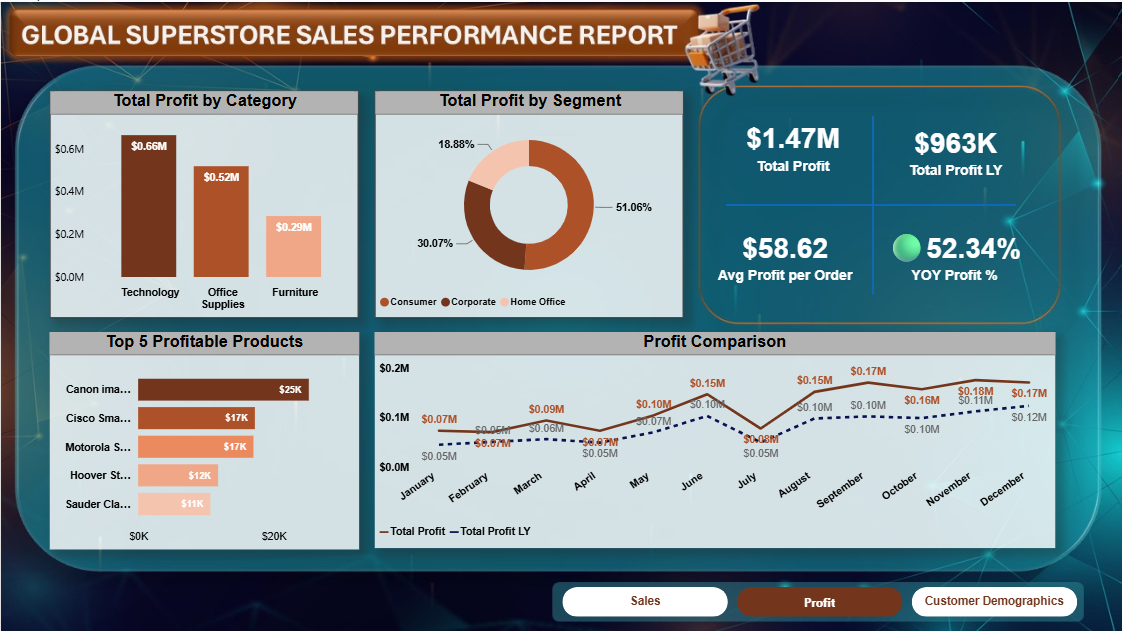

The dashboard page shown, as its layout file describes it:
{"tool":"powerbi","page":{"name":"Profit ","canvas":[1280,720],"ordinal":1},"visuals":[{"type":"columnChart","title":"Total Profit by Category","fields":{"Category":["globalsuperstore.Category"],"Y":["Reftbl.Total Profit"]},"box":[55.5,101.3,352.3,259.4],"z":0},{"type":"donutChart","title":"Total Profit by Segment","fields":{"Series":["globalsuperstore.Segment"],"Y":["Reftbl.Total Profit"]},"box":[425.9,101.3,352.3,259.4],"z":1000},{"type":"barChart","title":"Top 5 Profitable Products ","fields":{"Category":["globalsuperstore.Product Name"],"Y":["Reftbl.Total Profit"]},"box":[54.9,376,352.7,248.4],"z":2000},{"type":"lineChart","title":"Profit Comparison","fields":{"Category":["date_tbl1.Date.Variation.Date Hierarchy.Month"],"Y":["Reftbl.Total Profit","Reftbl.Total_profit_ly"]},"box":[425.9,376.4,775.7,246.1],"z":3000},{"type":"shape","box":[842.1,129.1,304,203.9],"z":4000},{"type":"shape","box":[826.4,80.8,330.6,300.4],"z":5000},{"type":"card","fields":{"Values":["Reftbl.Total Profit"]},"box":[801.4,102.9,204.5,122.1],"z":6000},{"type":"card","fields":{"Values":["Reftbl.yoy_profit%"]},"box":[993.5,223.7,188,130.4],"z":7000},{"type":"card","fields":{"Values":["Reftbl.Total_profit_ly"]},"box":[1010,107,156.4,123.5],"z":8000},{"type":"card","fields":{"Values":["Reftbl.avg_profit_per_order"]},"box":[801.4,223.7,186.6,130.4],"z":9000},{"type":"pageNavigator","box":[639.5,666.9,587.3,34.3],"z":10000}]}

Visuals, with their boxes in screenshot pixels (x1, y1, x2, y2), scaled from the page's 1280x720 canvas onto the 1122x631 screenshot:
"Total Profit by Category" columnChart: 49,89,357,316
"Total Profit by Segment" donutChart: 373,89,682,316
"Top 5 Profitable Products " barChart: 48,330,357,547
"Profit Comparison" lineChart: 373,330,1053,546
shape: 738,113,1005,292
shape: 724,71,1014,334
card - Reftbl.Total Profit: 702,90,882,197
card - Reftbl.yoy_profit%: 871,196,1036,310
card - Reftbl.Total_profit_ly: 885,94,1022,202
card - Reftbl.avg_profit_per_order: 702,196,866,310
pageNavigator: 561,584,1075,615
